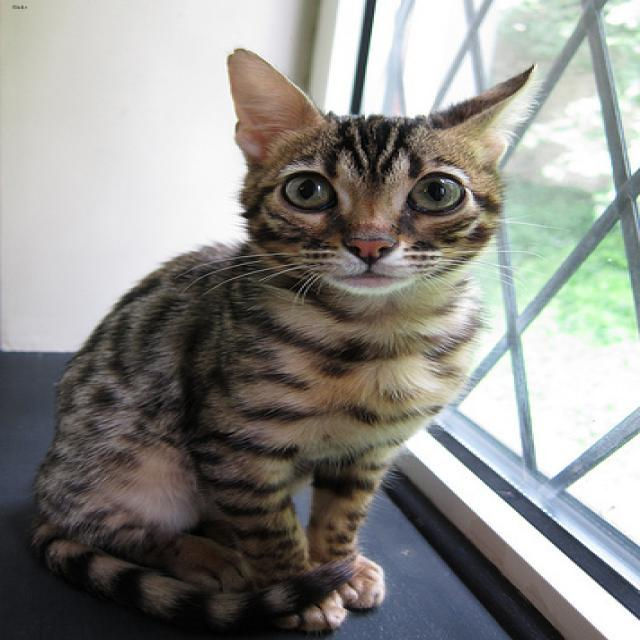Bengal: (226, 47, 534, 292)
